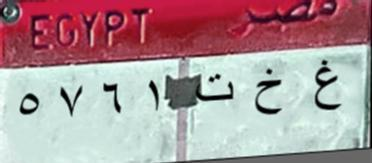1: (145, 76, 164, 118)
5: (15, 86, 42, 126)
6: (100, 78, 126, 123)
7: (56, 80, 85, 124)
ghayn: (308, 55, 343, 121)
khaa: (248, 62, 286, 125)
taa: (192, 71, 237, 114)
